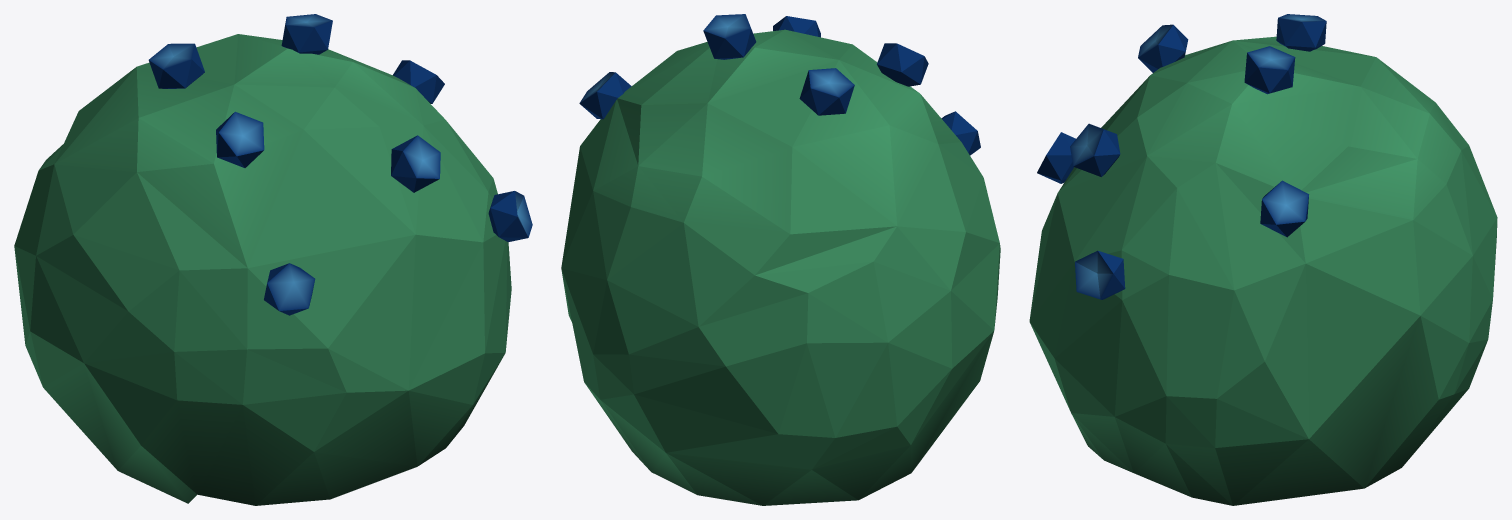
File: bush_blue_1.fbx
3 renders of one model, left to right at view 1: azimuth 30°, elevation 25°; view 2: azimuth 150°, elevation 25°; view 3: azimuth 270°, elevation 25°, orthographic.
Parts seen in each view (by area): view 1: bush_blue_1; view 2: bush_blue_1; view 3: bush_blue_1.
Part boxes in pixels (box(x1,y1,x2,y2)): bush_blue_1: box(14, 14, 532, 505); bush_blue_1: box(561, 14, 1000, 505); bush_blue_1: box(1029, 14, 1497, 505).
Bounding box in the file's own units: 0.9806 × 0.9702 × 0.9645.
